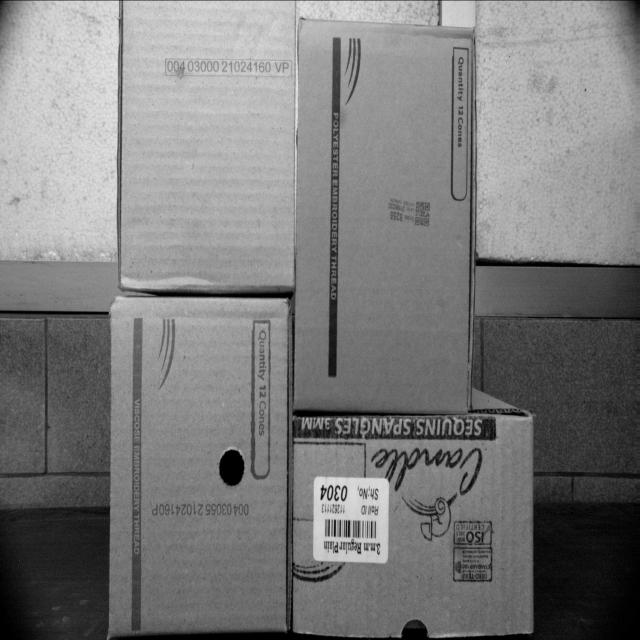cardboxes: (300, 20, 476, 413), (108, 297, 288, 634), (294, 420, 532, 637), (116, 8, 296, 294)
